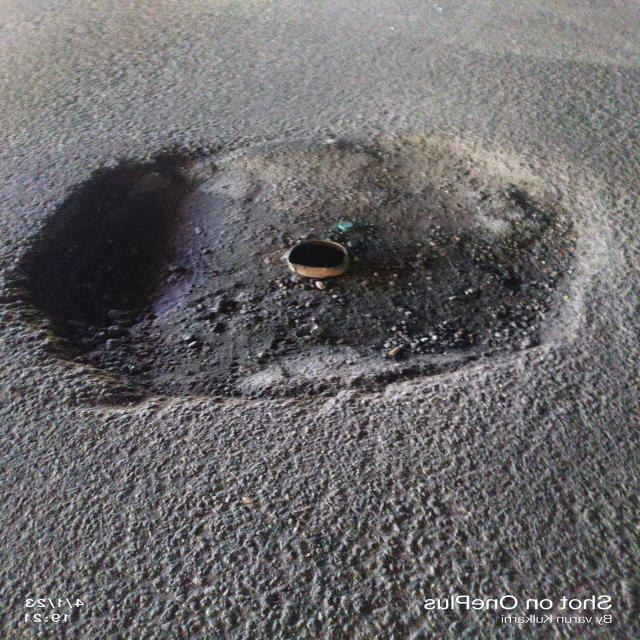potholes: (23, 125, 578, 424)
